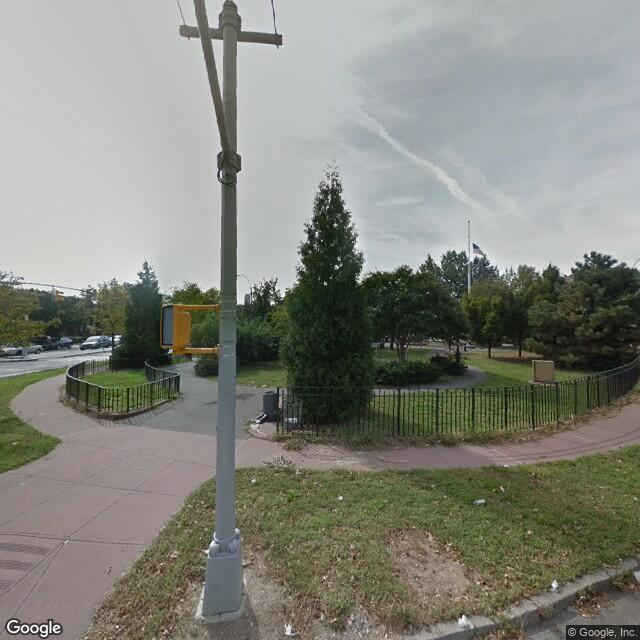litter: (455, 615, 476, 630), (282, 622, 299, 635), (472, 497, 485, 504), (335, 492, 344, 502), (551, 581, 561, 590), (249, 477, 256, 483)
